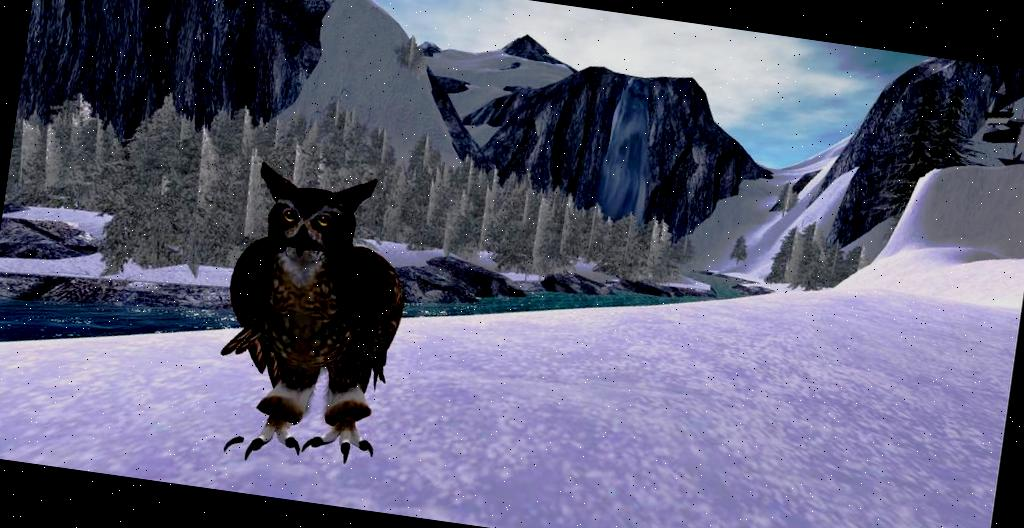Owl: (206, 162, 424, 484)
